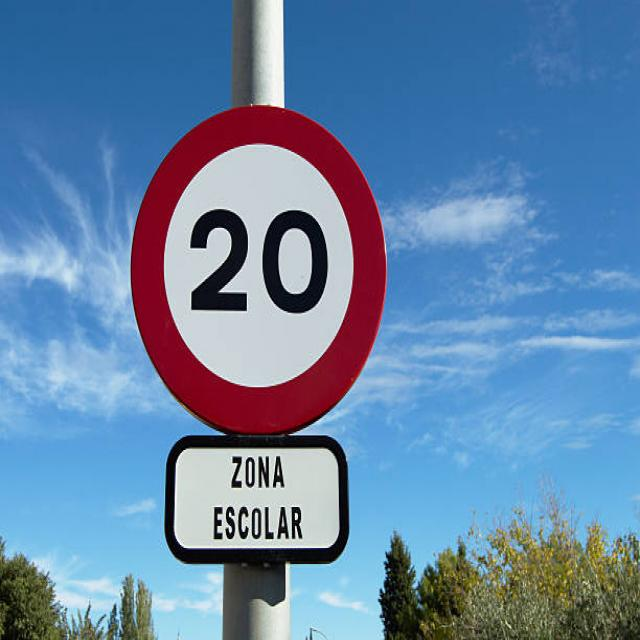speed_limit_20: (122, 100, 394, 440)
